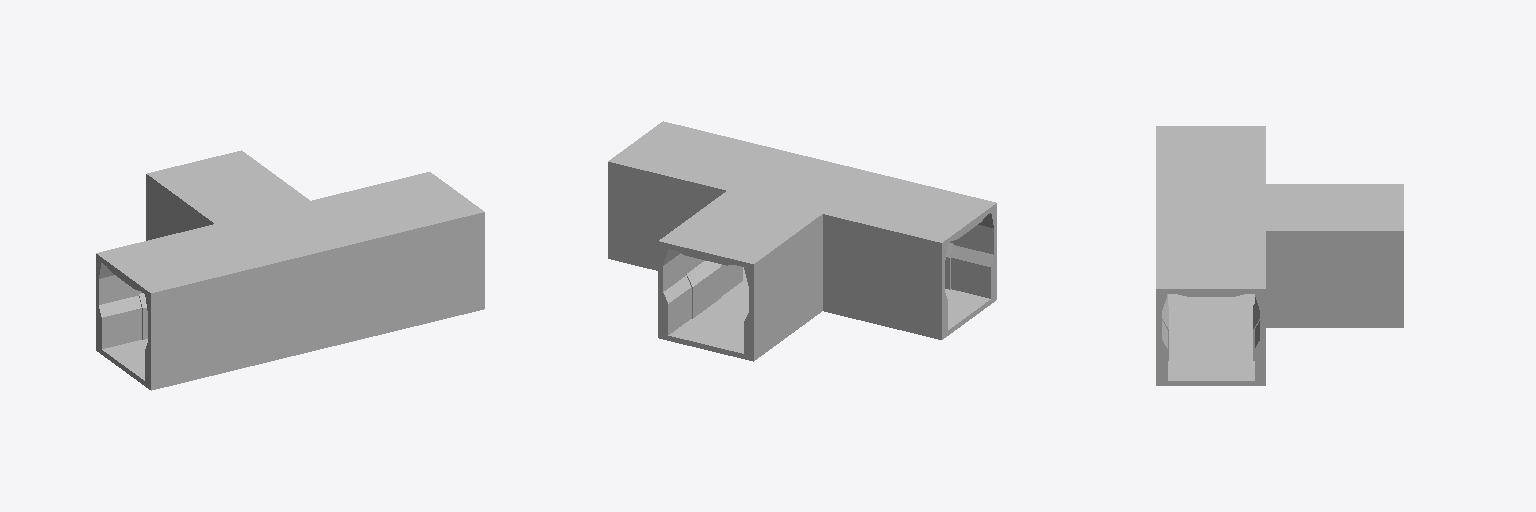
The model's file is t sectionallwa.obj.
3 renders of one model, left to right at view 1: azimuth 30°, elevation 25°; view 2: azimuth 150°, elevation 25°; view 3: azimuth 270°, elevation 25°, orthographic.
Visible parts, largest first — view 1: Part32, Part40, Part13, Part35, Part16, Part21, Part15, Part30, Part31, Part10; view 2: Part40, Part30, Part13, Part16, Part27, Part35, Part3, Part21, Part1, Part32, Part29, Part5 (+2 smaller); view 3: Part5, Part40, Part35, Part13, Part31, Part3, Part27, Part32.
Boxes of the visible parts, x1,y1,x2,y2 form: Part32: [148, 211, 484, 384]; Part40: [146, 151, 365, 267]; Part13: [96, 224, 269, 298]; Part35: [312, 172, 484, 245]; Part16: [146, 173, 213, 240]; Part21: [96, 339, 269, 390]; Part15: [99, 308, 141, 348]; Part30: [96, 225, 218, 346]; Part31: [366, 304, 484, 337]; Part10: [99, 296, 141, 317]; Part40: [660, 150, 876, 268]; Part30: [818, 211, 944, 334]; Part13: [823, 174, 994, 247]; Part16: [749, 213, 822, 355]; Part27: [608, 160, 729, 265]; Part35: [608, 123, 781, 194]; Part3: [658, 270, 822, 361]; Part21: [823, 289, 996, 339]; Part1: [663, 265, 742, 334]; Part32: [661, 121, 996, 296]; Part29: [951, 258, 993, 298]; Part5: [658, 190, 733, 333]; Part5: [1260, 228, 1403, 322]; Part40: [1156, 184, 1403, 235]; Part35: [1156, 231, 1265, 293]; Part13: [1156, 126, 1265, 183]; Part31: [1156, 323, 1265, 385]; Part3: [1168, 294, 1403, 327]; Part27: [1260, 231, 1265, 380]; Part32: [1156, 126, 1161, 380].
Size of the model in its own units: 66.5 by 18.5 by 42.75.